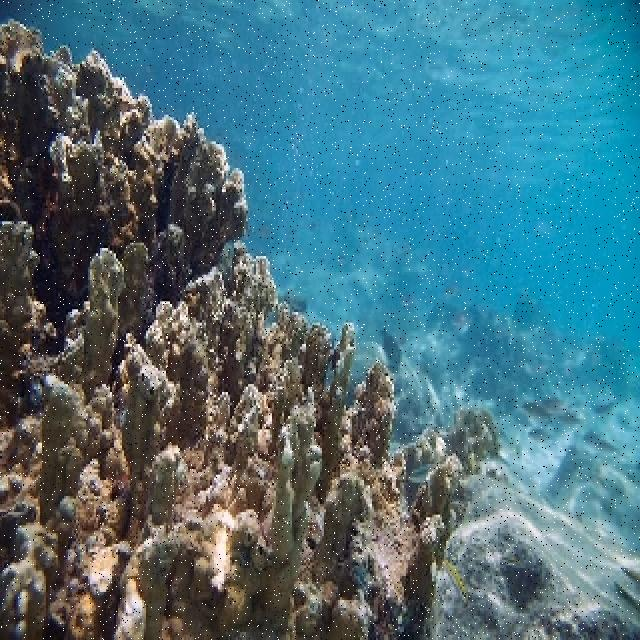reefs: (0, 17, 468, 637)
